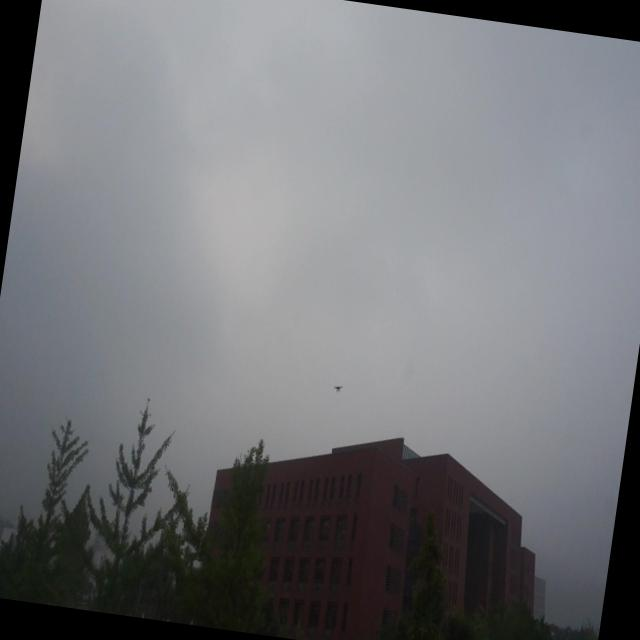drone: (332, 379, 344, 396)
